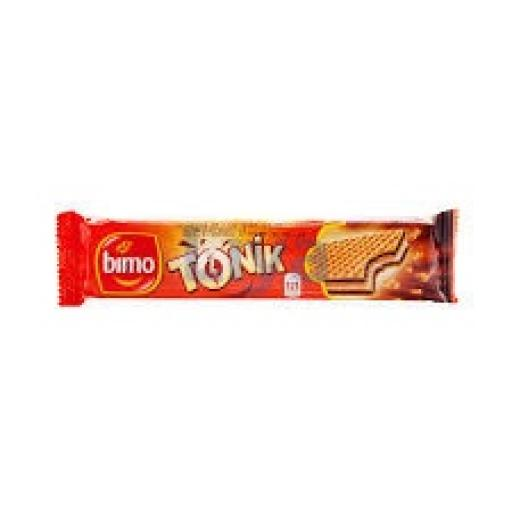tonik: (55, 186, 479, 396)
